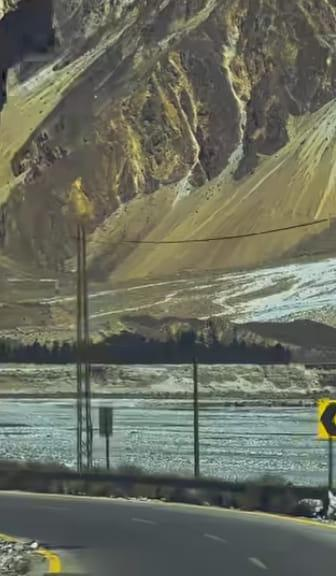left_turn: (0, 463, 322, 574), (316, 397, 336, 441)
